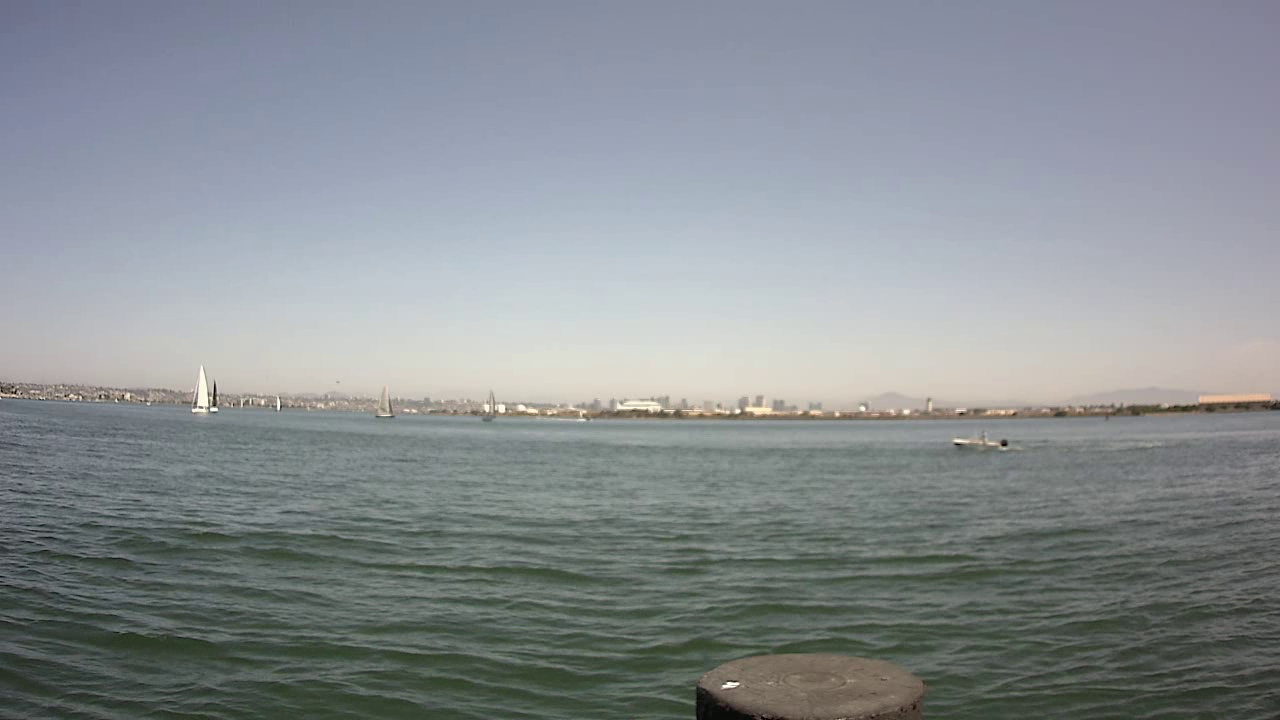target: (949, 422, 1017, 456)
